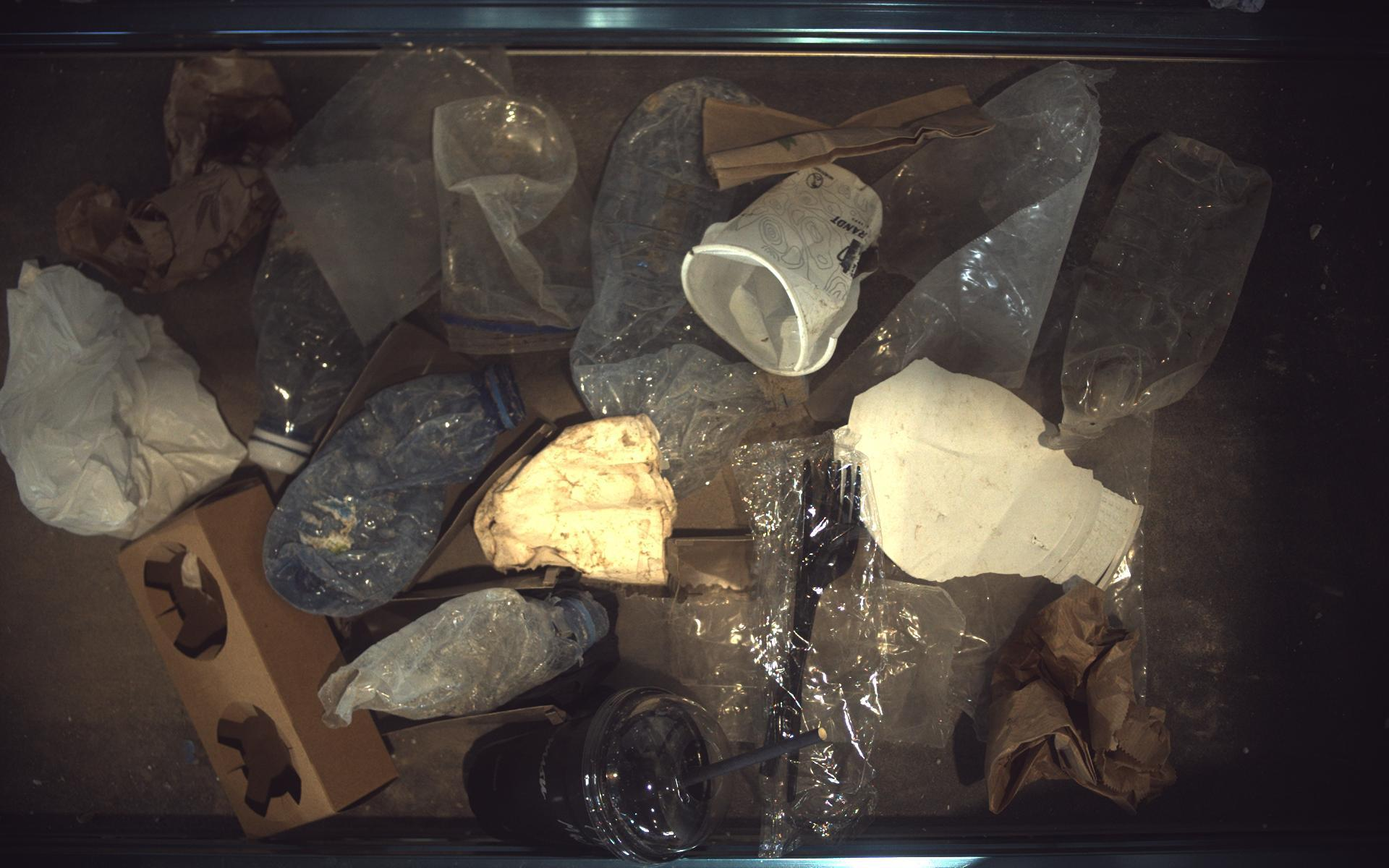general_w: (808, 61, 1113, 422), (118, 480, 397, 839), (572, 76, 770, 499), (268, 46, 510, 344), (838, 359, 1144, 587), (1061, 132, 1275, 445), (1, 265, 246, 538), (263, 366, 523, 618), (736, 434, 888, 857), (465, 689, 823, 864), (55, 52, 293, 292), (988, 583, 1178, 814), (433, 95, 593, 354), (683, 166, 880, 376), (318, 589, 611, 728), (475, 414, 677, 584), (247, 214, 366, 475), (703, 84, 996, 189), (878, 576, 1051, 749), (411, 417, 561, 586), (606, 591, 766, 746), (331, 567, 580, 662), (315, 320, 473, 455), (501, 592, 620, 712), (1019, 257, 1088, 424), (1069, 411, 1158, 506), (1073, 412, 1158, 506), (1108, 524, 1150, 702), (370, 706, 568, 736), (668, 535, 754, 593)
